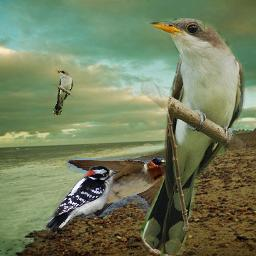Cuckoo: (141, 18, 246, 256), (53, 70, 73, 115)
Swallow: (66, 158, 185, 226)
Woodpecker: (43, 166, 120, 231)
